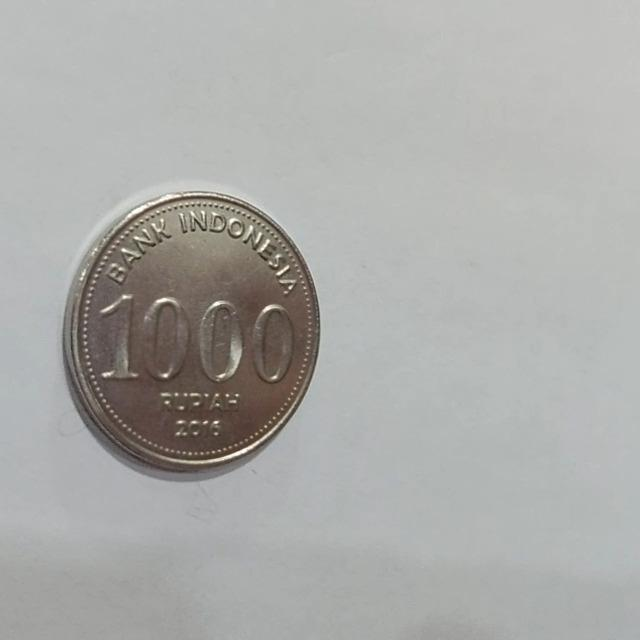Rp100: (60, 187, 322, 480)
